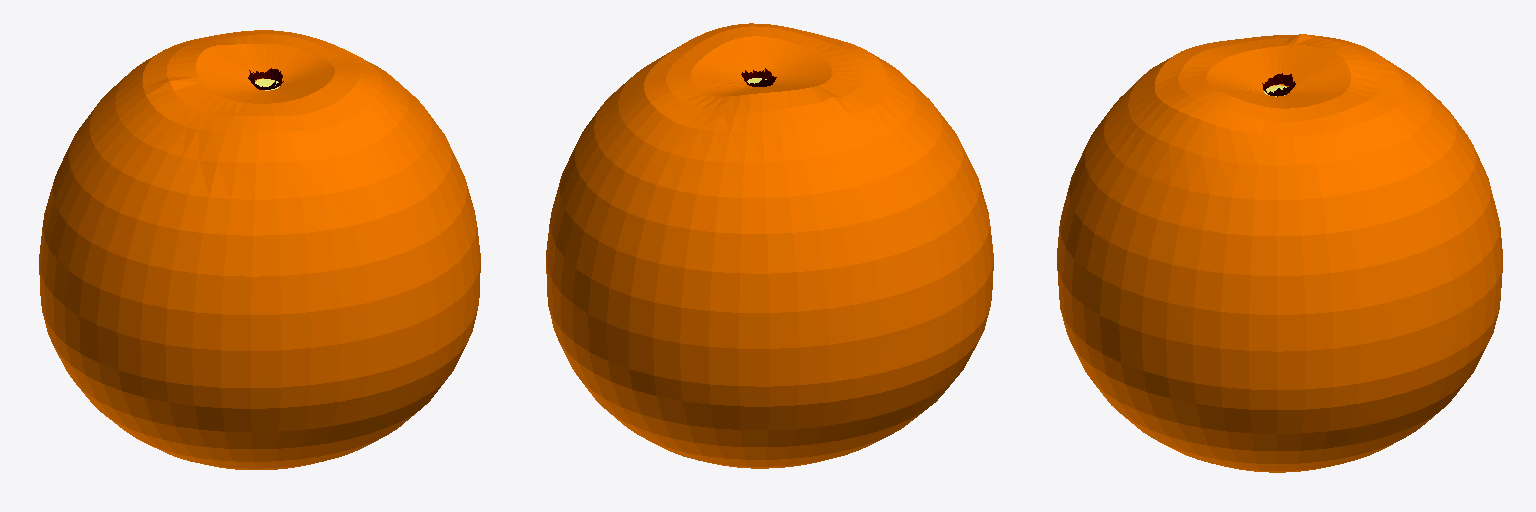
The model's file is all_orange.obj.
The picture shows the model from 3 angles: view 1: azimuth 30°, elevation 25°; view 2: azimuth 150°, elevation 25°; view 3: azimuth 270°, elevation 25°; orthographic projection.
Visible parts, largest first — view 1: Orange02; view 2: Orange02; view 3: Orange02.
Boxes of the visible parts, box(x1,y1,x2,y2) form: Orange02: box(39, 30, 480, 469); Orange02: box(546, 23, 993, 468); Orange02: box(1057, 34, 1502, 472).
Bounding box in the file's own units: 18.78 × 17.63 × 18.78.